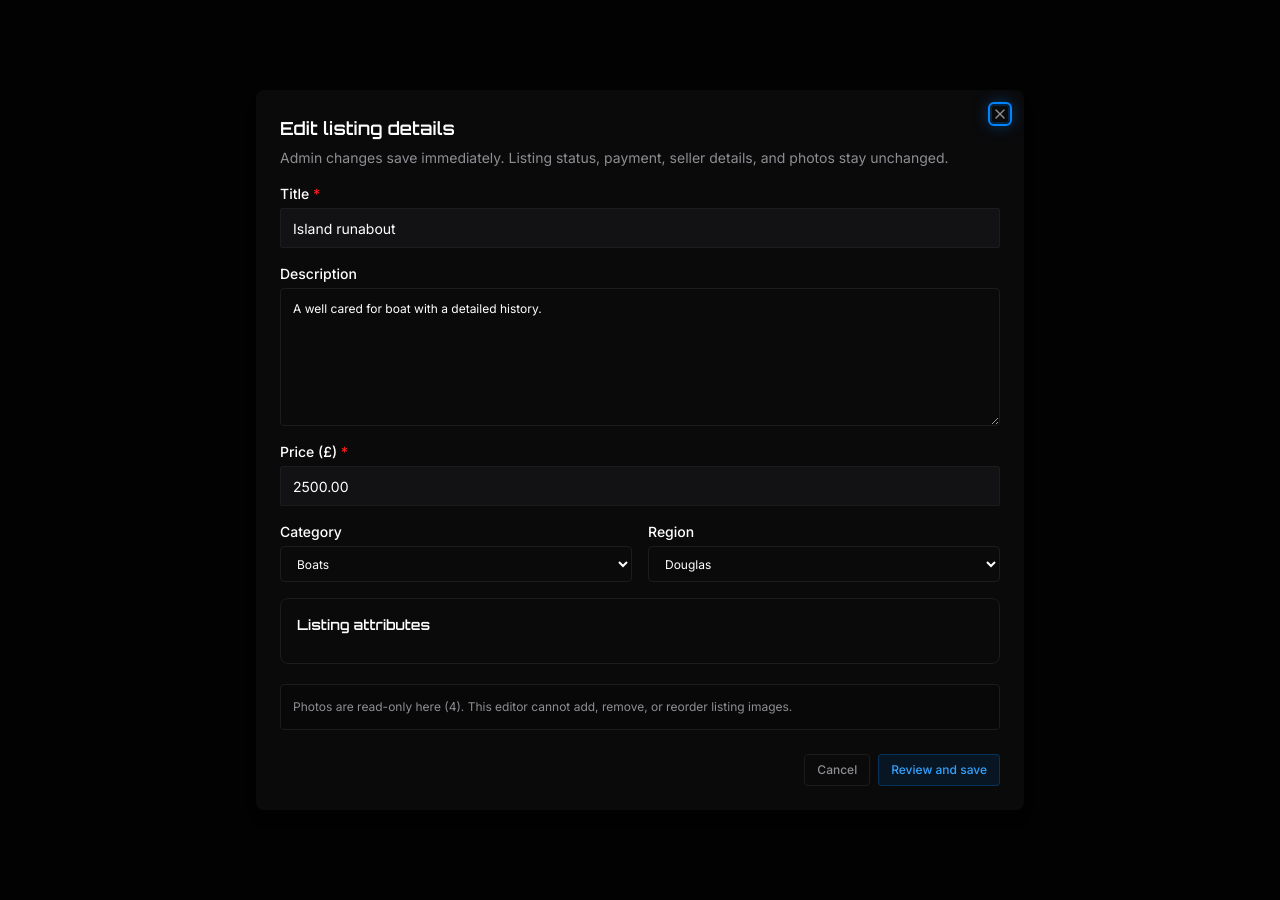
Test: ListingEditDialog › retains edits and recovers when the save request throws
The width and height of the screenshot is (1280, 900).
Replace the text in the field showing "Island runabout" with "Updated island runabout" at (640, 228), box [280,208,1000,248]
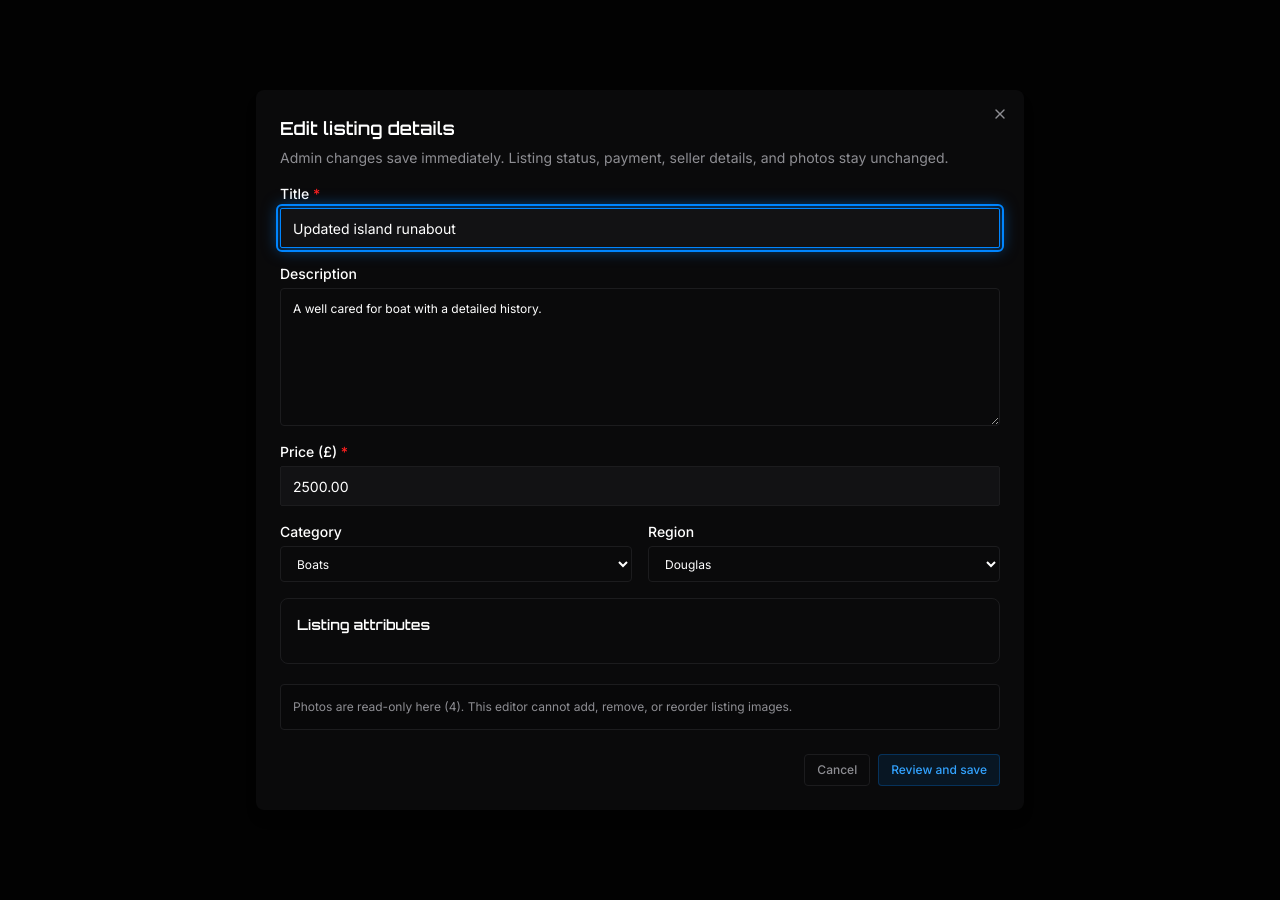
Click the button "Review and save" at (939, 770), box [878,754,1000,786]
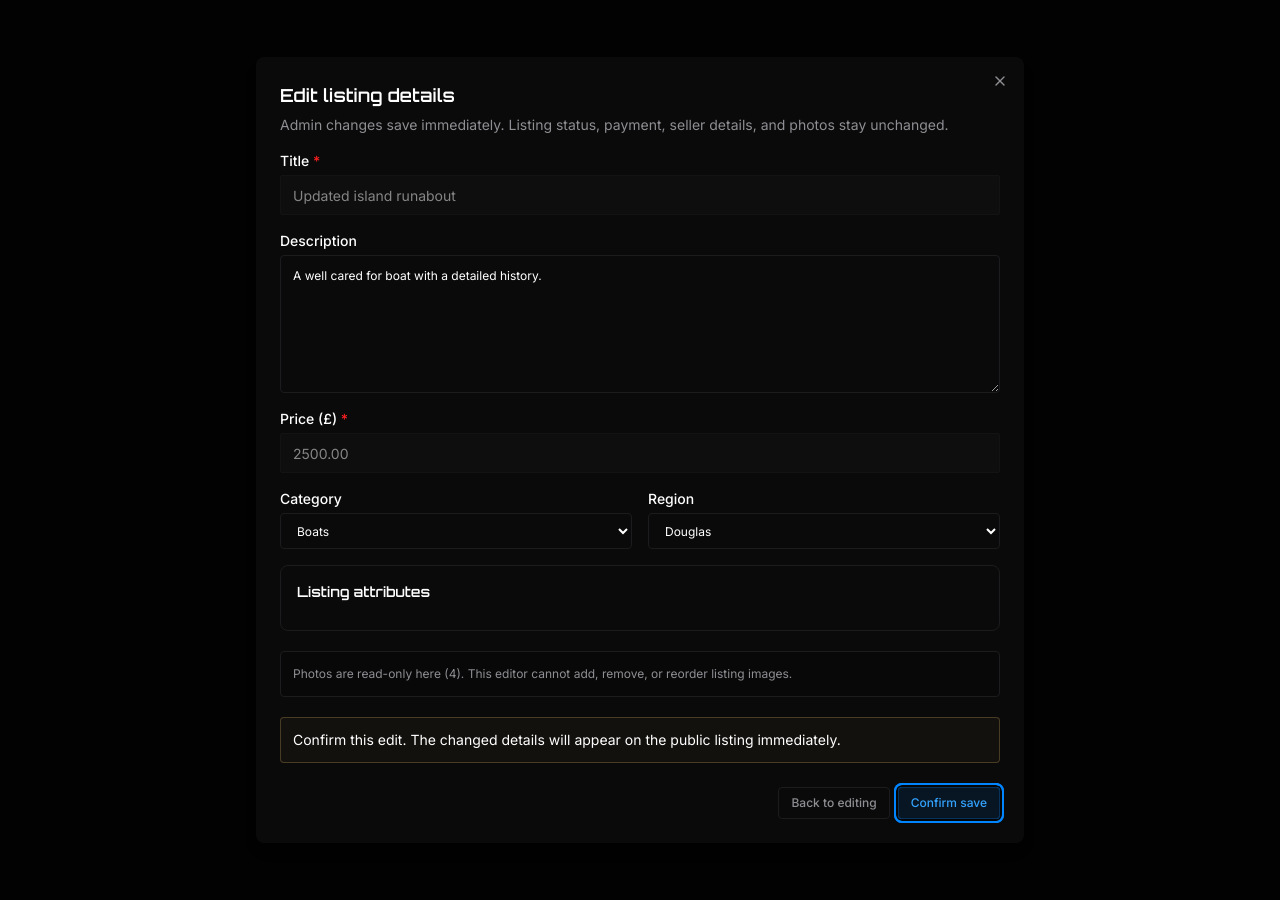
Click the button "Confirm save" at (949, 803), box [898,787,1000,819]
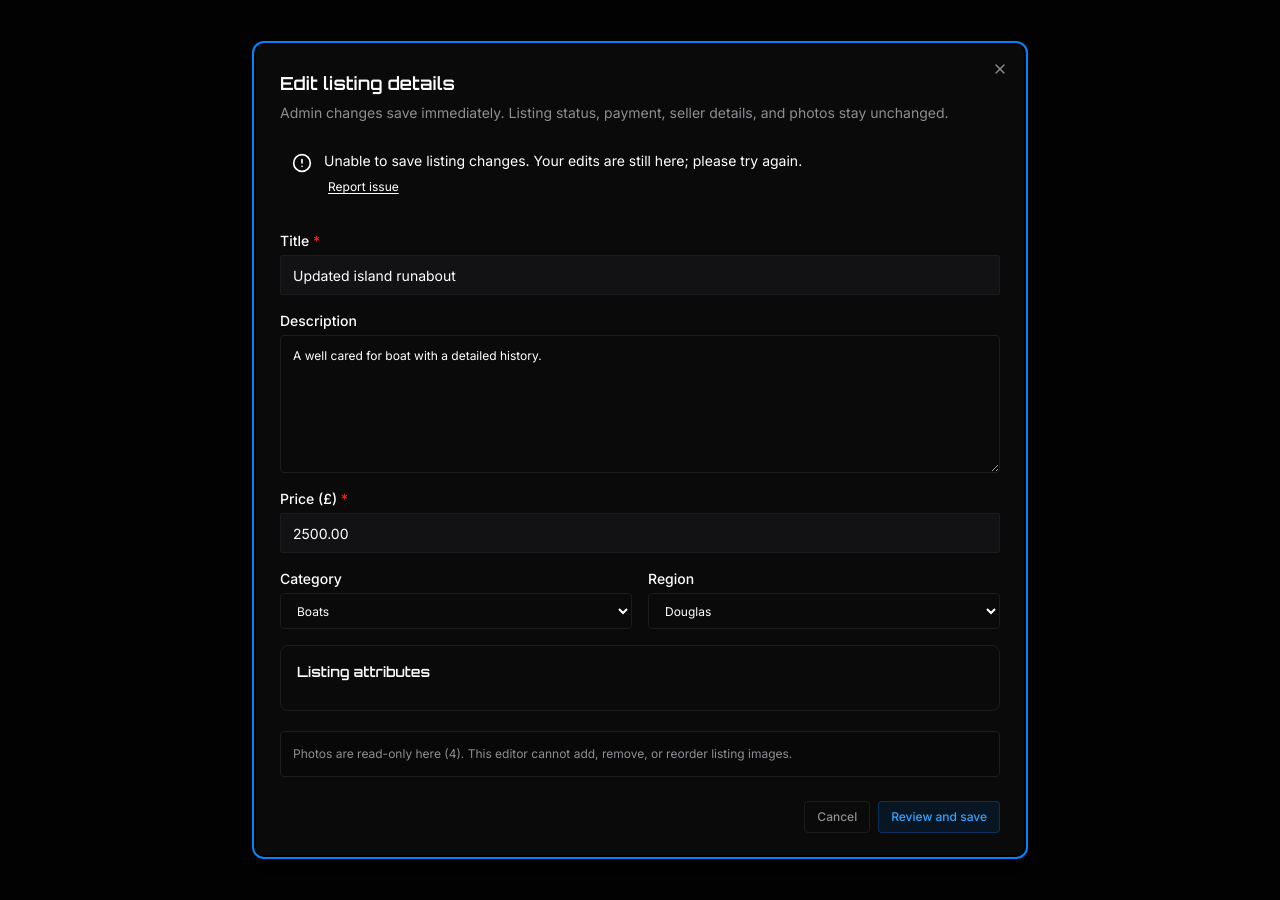
Expected: the button "Review and save" is enabled, [878,801,1000,833]
Now the text "Your edits are still here" is shown, box [324,152,802,169]
